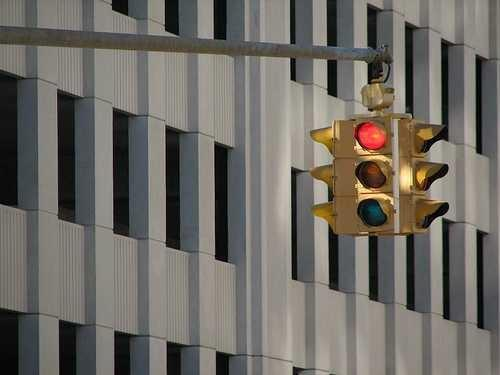red: (350, 112, 399, 233), (354, 116, 394, 152)
